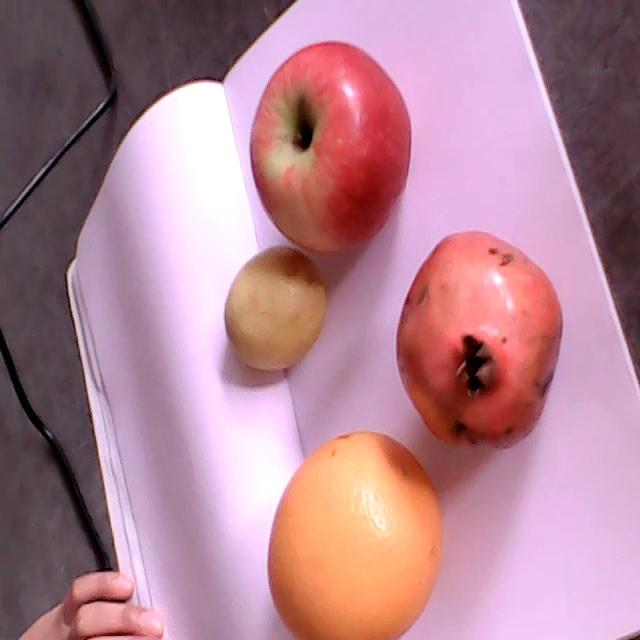apple: (249, 41, 414, 255)
lemon: (223, 246, 327, 372)
orange: (267, 430, 444, 639)
pomegranate: (395, 229, 563, 447)
